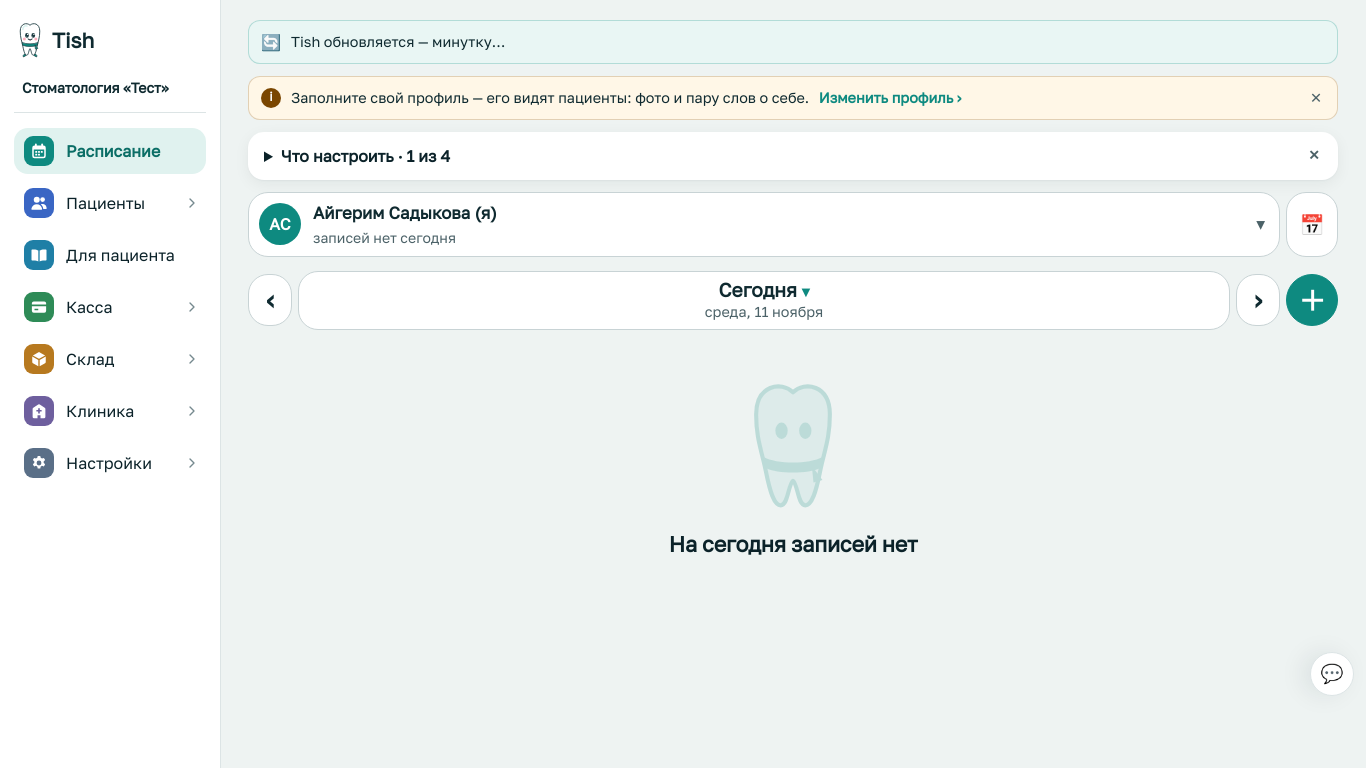
it: телефон: «Помощь» — маленькая круглая кнопка на главных экранах (в меню её нет), открывает тот же чат
Click the button named "Помощь: спросить помощника Tish" at (1332, 674), box [1310,652,1354,696]
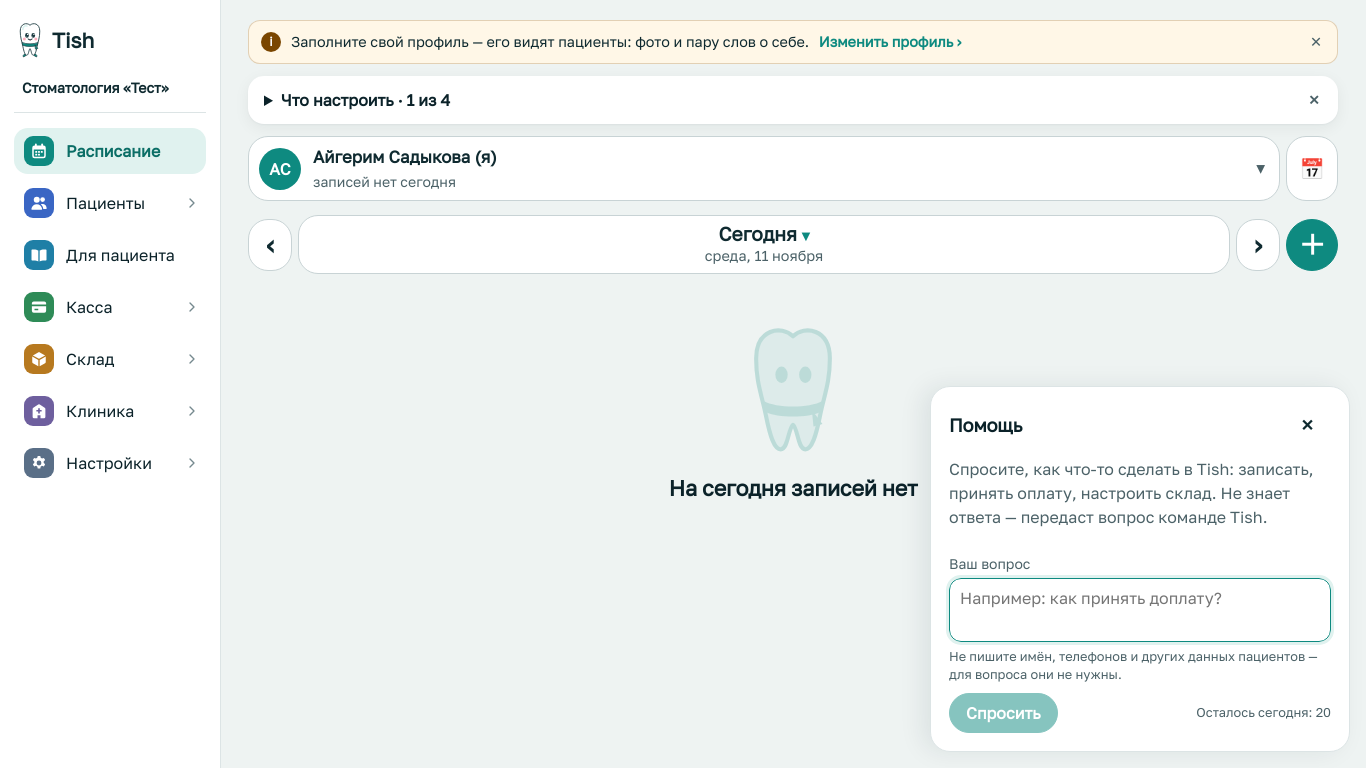
Expected: the element "Помощь" is shown, [930,386,1350,752]
